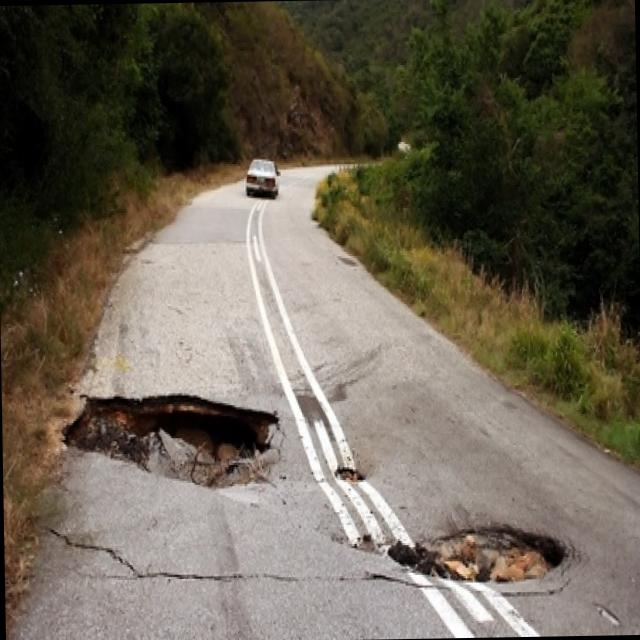Potholes: (44, 376, 300, 516), (362, 497, 587, 614), (308, 433, 396, 507)
